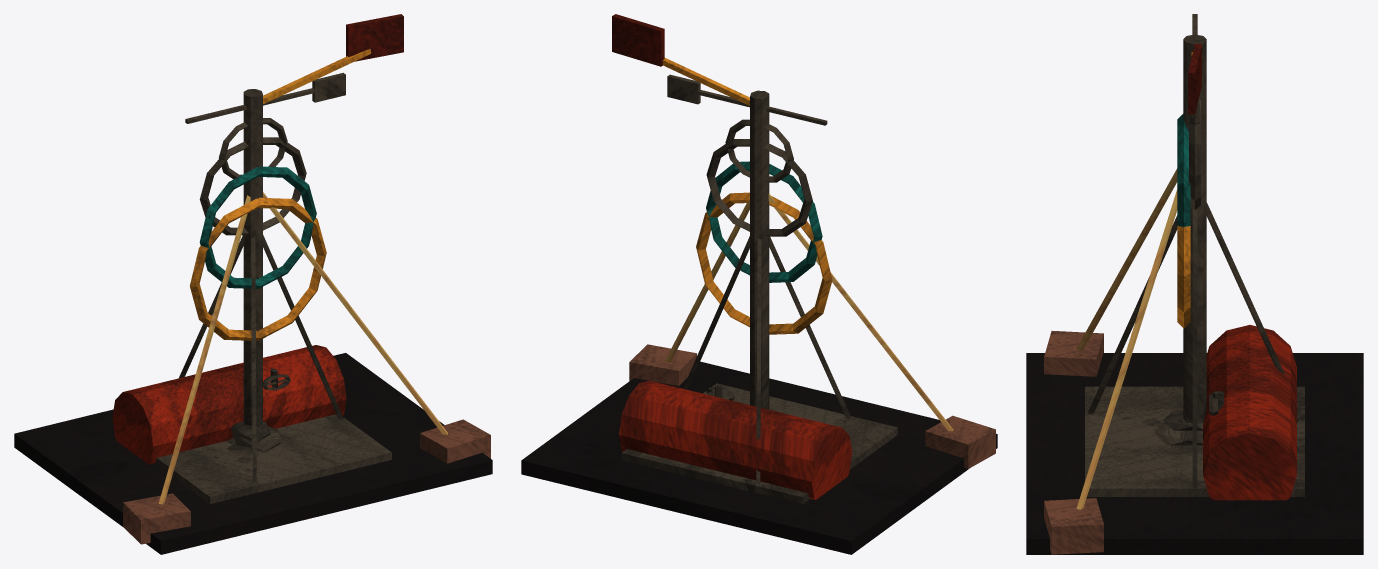
File: center-wind-anchor.glb
The picture shows the model from 3 angles, left to right: view 1: azimuth 30°, elevation 25°; view 2: azimuth 150°, elevation 25°; view 3: azimuth 270°, elevation 25°; orthographic projection. The views are drawn at different scales.
Parts seen in each view (by area): view 1: center-wind-anchor; view 2: center-wind-anchor; view 3: center-wind-anchor.
Part boxes in pixels (box(x1,y1,x2,y2)): center-wind-anchor: box(14, 14, 492, 554); center-wind-anchor: box(521, 14, 997, 554); center-wind-anchor: box(1026, 14, 1363, 554).
Bounding box in the file's own units: 6.33 × 7.13 × 4.6.
1 material, 1 textured.
